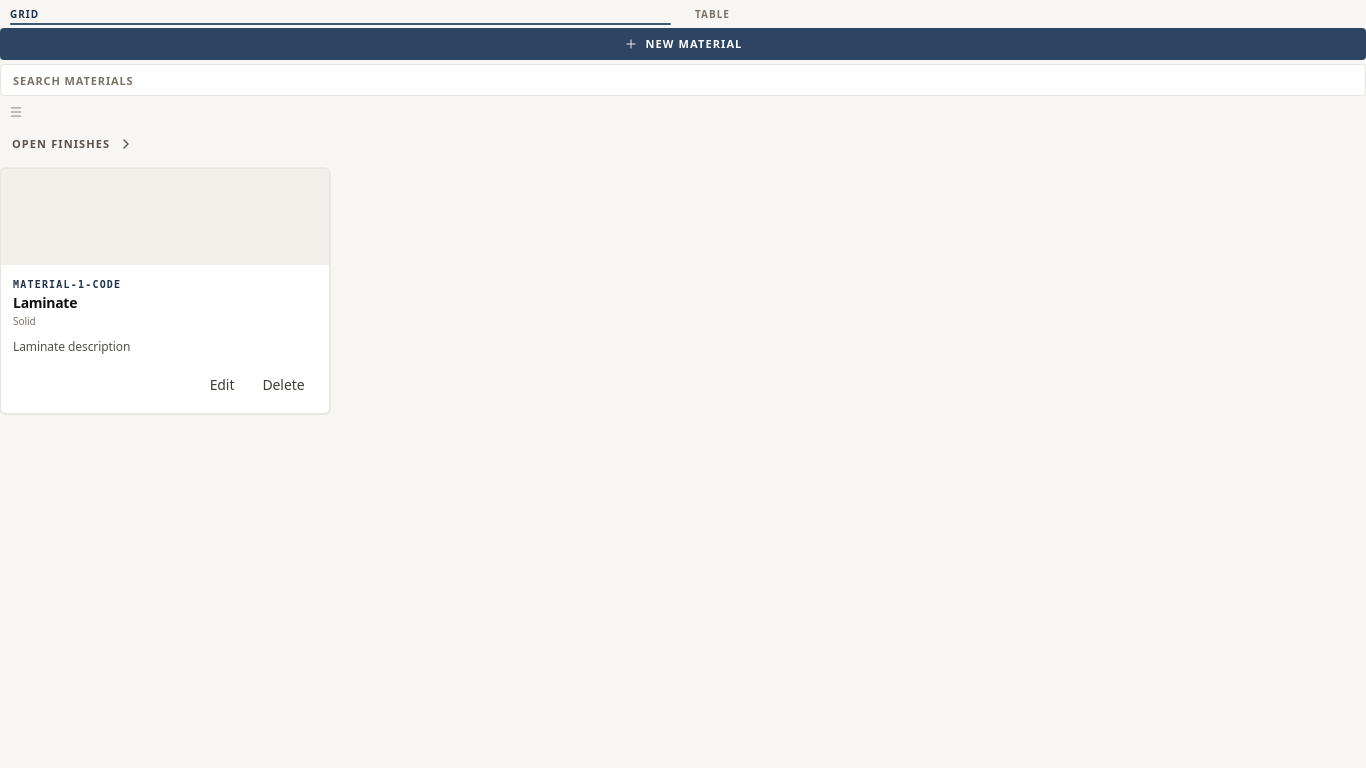
Test: MaterialsView › shows the finish collision prompt from the finishes panel create action
This screenshot has width=1366, height=768.
Click the button "Open finishes": x=73, y=144 top-left (0, 128), bottom-right (146, 160)
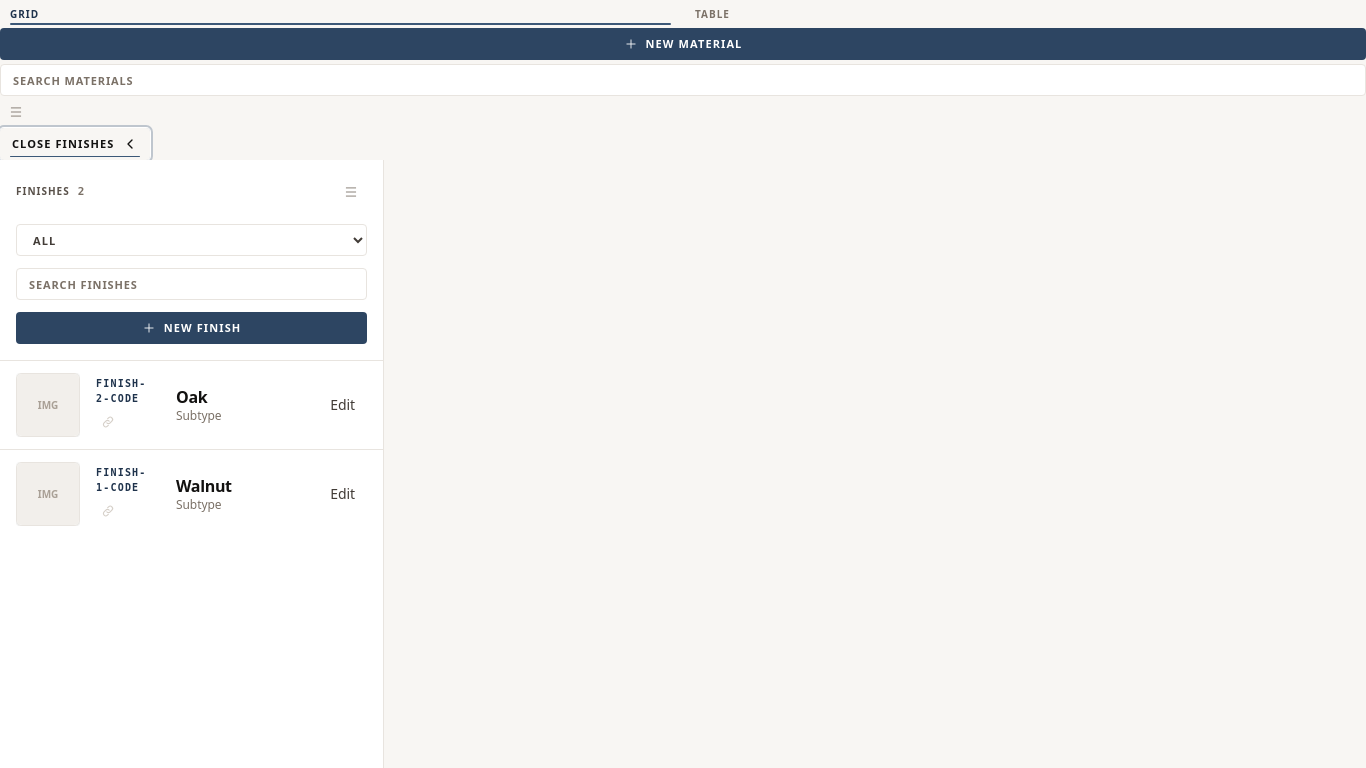
Click the button "New finish": x=192, y=328 top-left (16, 312), bottom-right (367, 344)
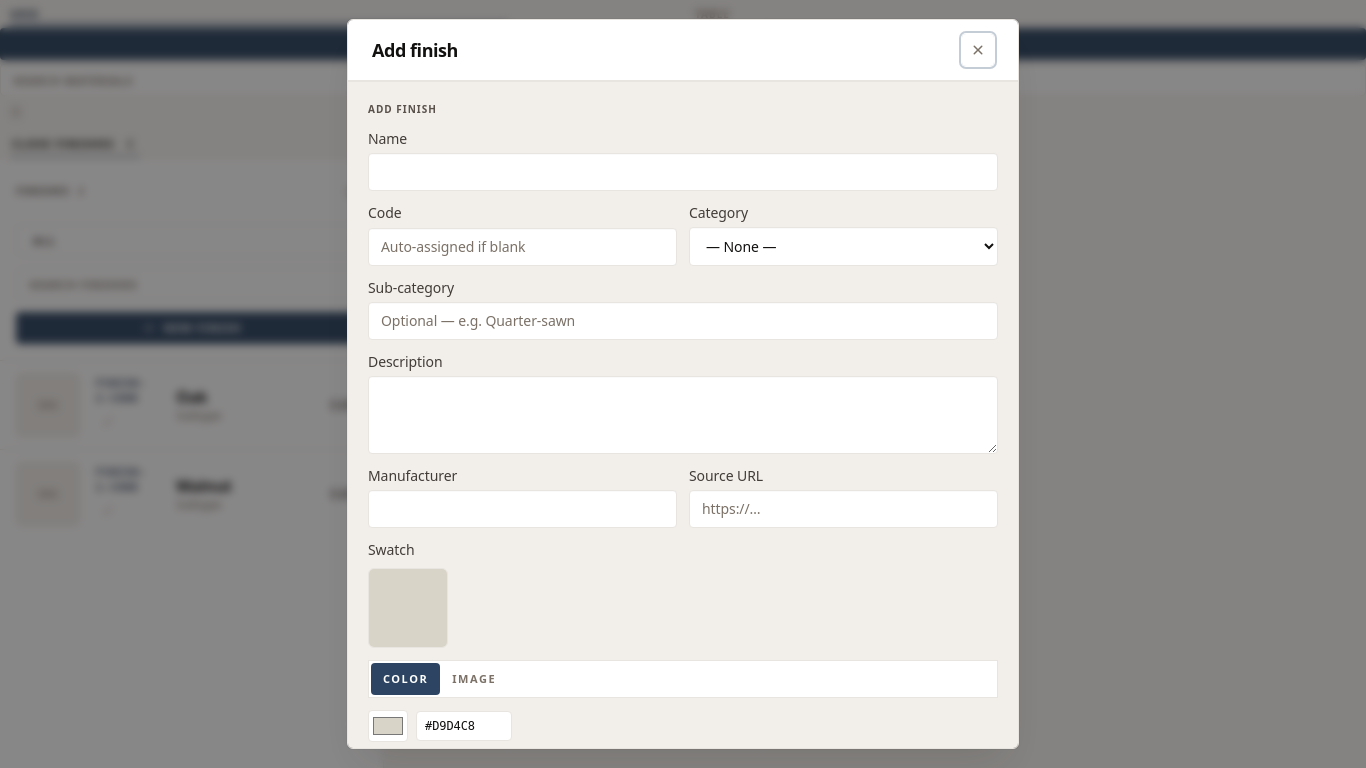
In the field labelled "Name": x=683, y=172 top-left (368, 153), bottom-right (998, 191), type "Walnut"
(page scrolled)
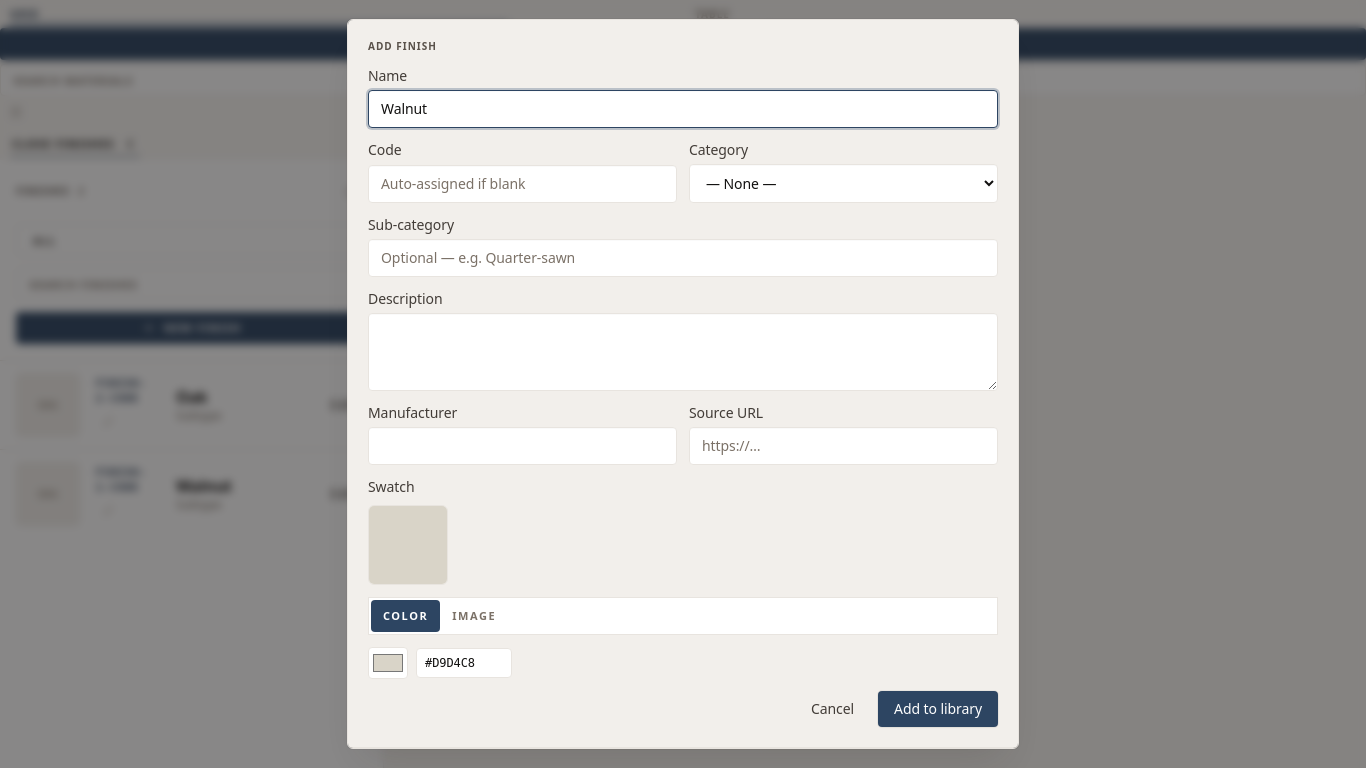
Click the button "Add to library": x=938, y=709 top-left (878, 691), bottom-right (998, 727)
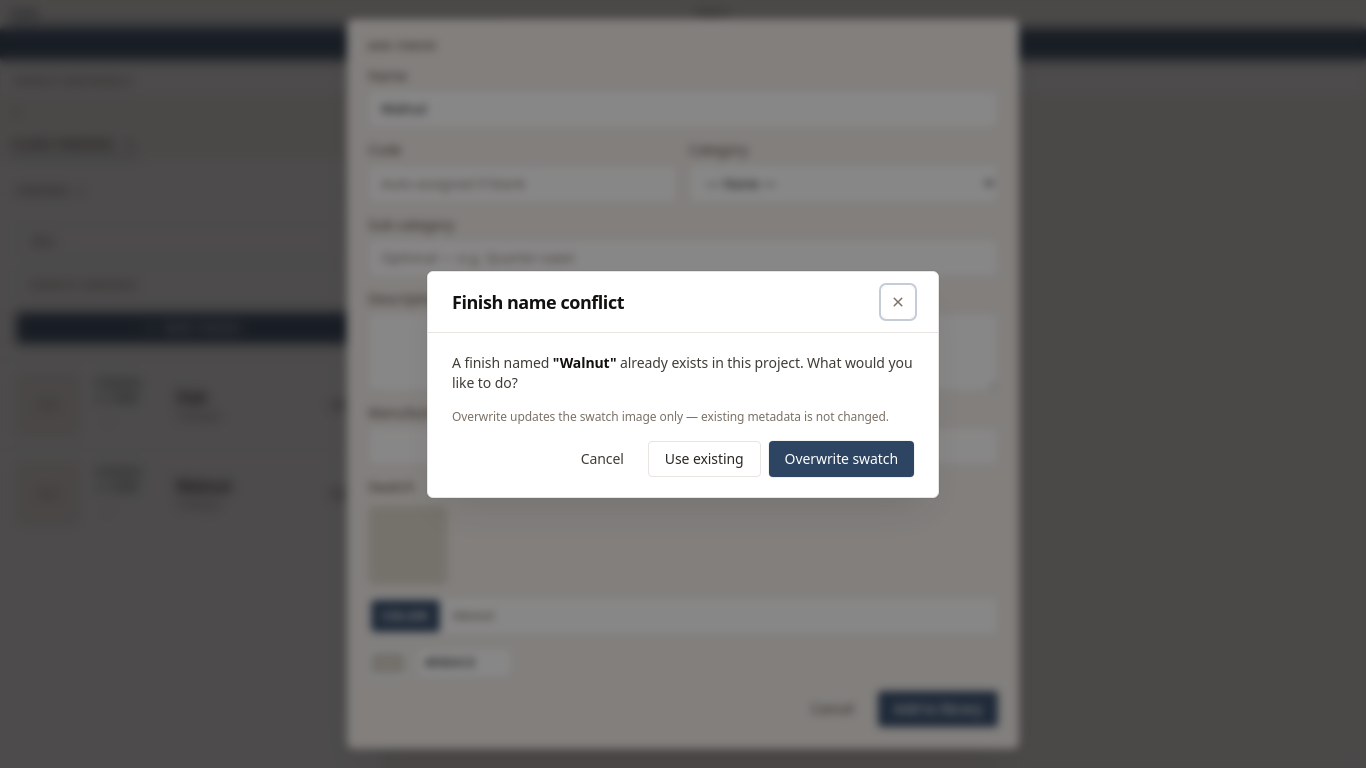
Now the dialog "Finish name conflict" is shown, box top-left (427, 270), bottom-right (939, 498)
